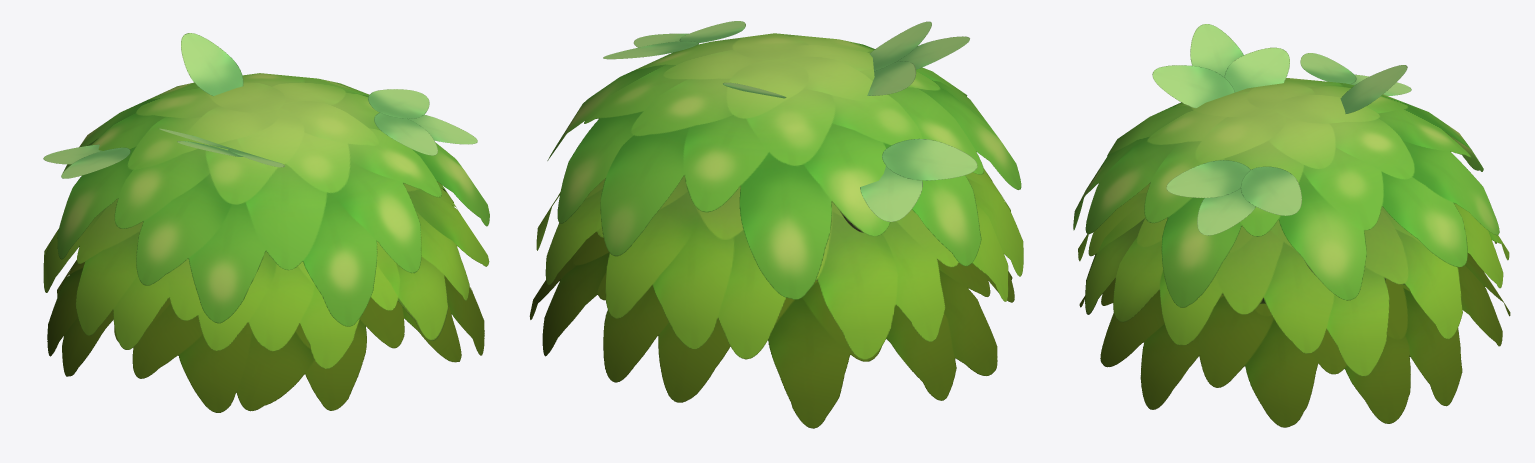
The model's file is Bush00.fbx.
The picture shows the model from 3 angles, left to right: view 1: azimuth 30°, elevation 25°; view 2: azimuth 150°, elevation 25°; view 3: azimuth 270°, elevation 25°; orthographic projection. The views are drawn at different scales.
Visible parts, largest first — view 1: Bush00_LOD0; view 2: Bush00_LOD0; view 3: Bush00_LOD0.
Boxes of the visible parts, bbox=[...] form: Bush00_LOD0: bbox=[43, 33, 489, 412]; Bush00_LOD0: bbox=[529, 21, 1023, 428]; Bush00_LOD0: bbox=[1073, 24, 1510, 427].
Size of what is drawn, in the model's own units: 181 by 121 by 178.
Materials: 1 (1 with a texture image).
